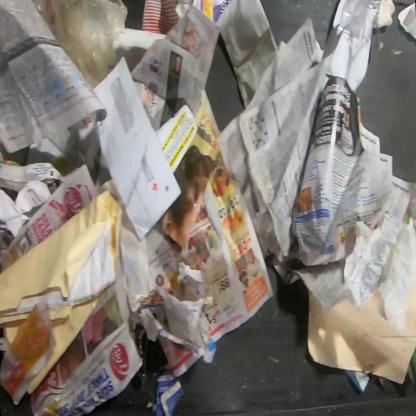soft_plastic: (33, 0, 129, 89)
